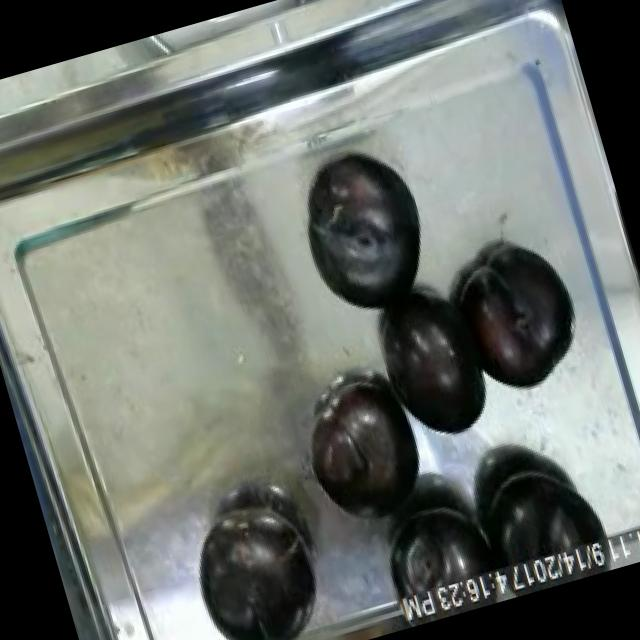Fruit: (281, 134, 448, 328), (356, 269, 508, 462), (283, 361, 442, 541), (442, 226, 598, 408), (456, 440, 624, 603), (357, 474, 526, 632), (178, 489, 336, 640)
